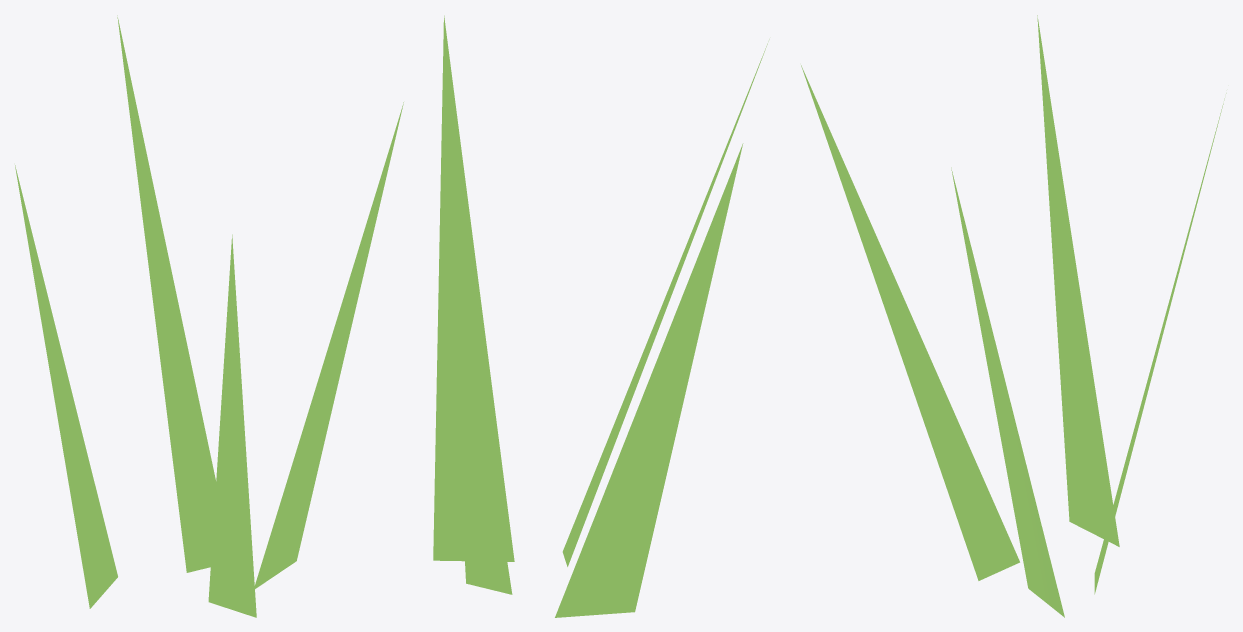
The model's file is Grass_d_OneS_03.fbx.
3 renders of one model, left to right at view 1: azimuth 30°, elevation 25°; view 2: azimuth 150°, elevation 25°; view 3: azimuth 270°, elevation 25°, orthographic. The views are drawn at different scales.
Parts seen in each view (by area): view 1: Grass_d_OneS_03; view 2: Grass_d_OneS_03; view 3: Grass_d_OneS_03.
Part boxes in pixels (x1,y1,x2,y2): Grass_d_OneS_03: [15, 15, 403, 617]; Grass_d_OneS_03: [433, 15, 769, 617]; Grass_d_OneS_03: [801, 15, 1226, 617].
Bounding box in the file's own units: 0.2735 × 0.3873 × 0.3051.
